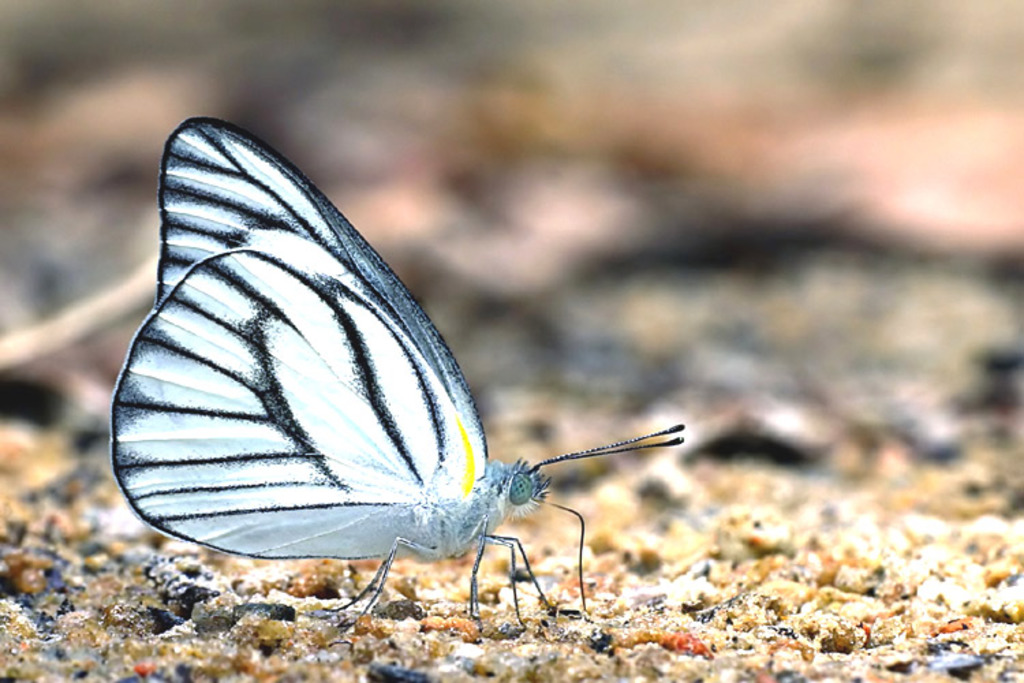Butterfly: (95, 97, 708, 608)
